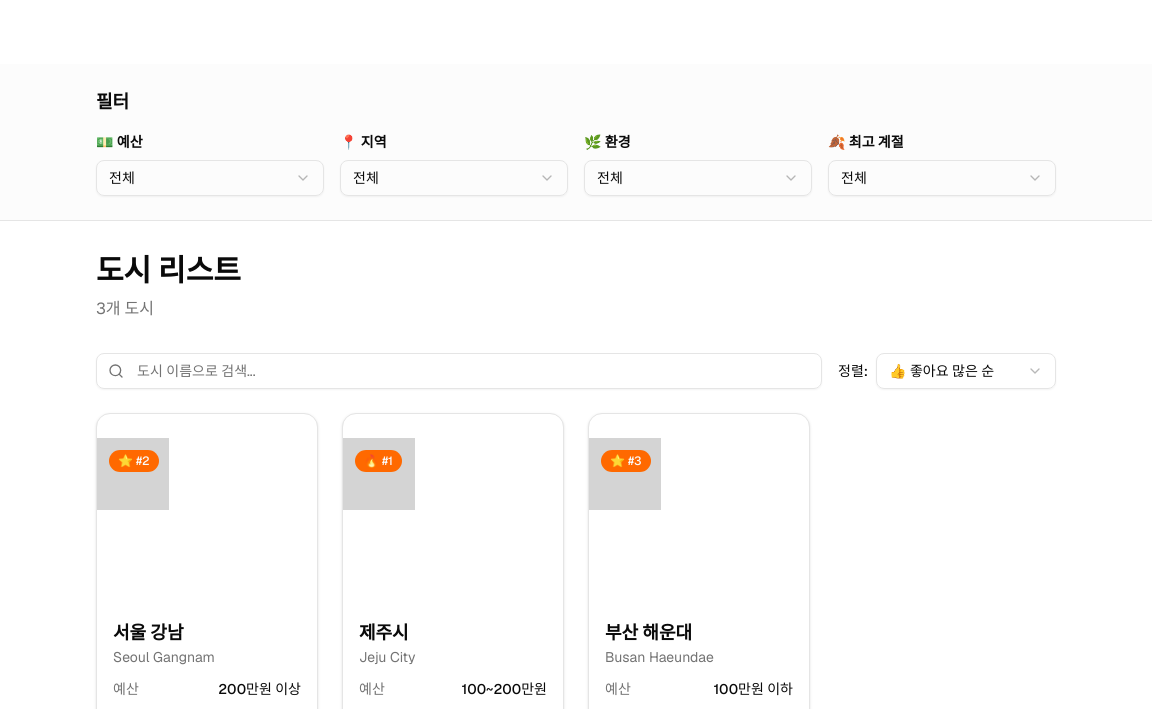
Test: PopularCities › 검색 › "제주" 검색 시 제주시만 표시된다
In the field: [459, 371] box [96, 353, 822, 389], type "제주"
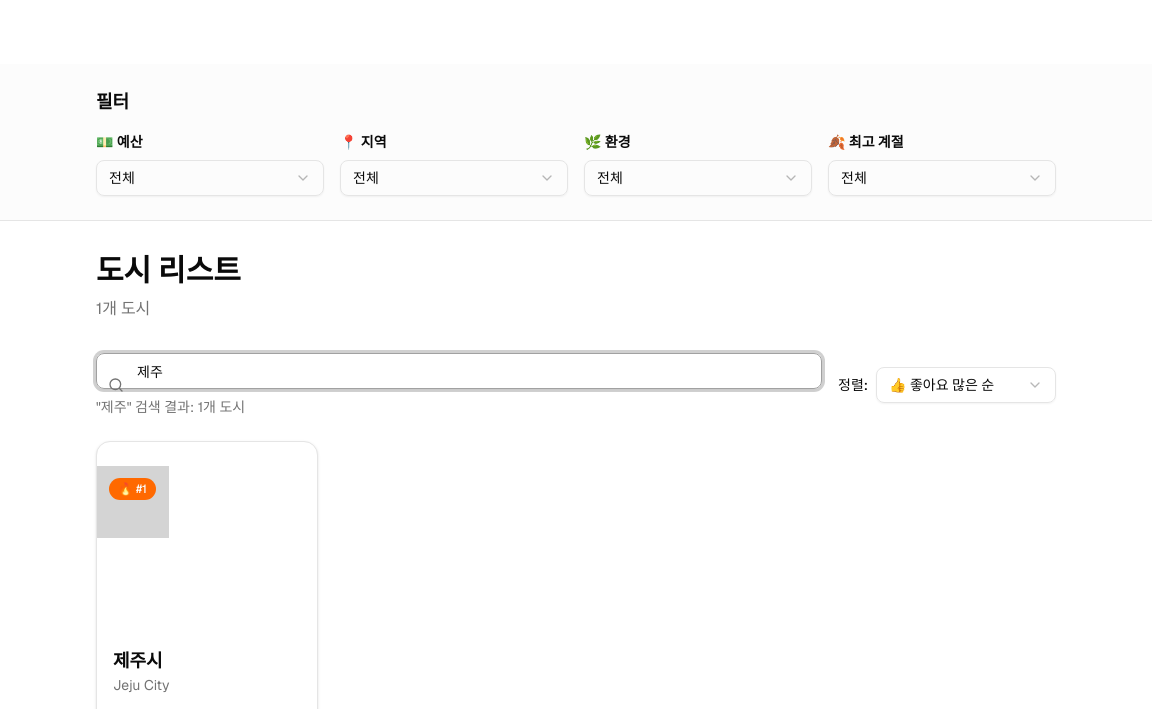
Expected: the heading "제주시" is shown, [113, 649, 163, 672]
Result: the link "서울 강남" is gone
Result: the link "부산 해운대" is gone
